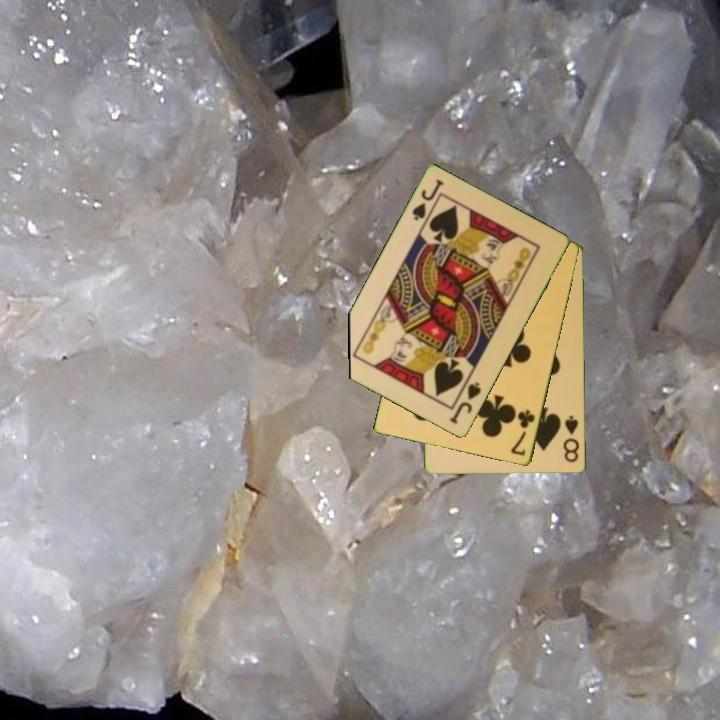7c: (508, 406, 538, 459)
8s: (560, 413, 582, 465)
Js: (408, 176, 447, 224), (446, 379, 484, 427)
